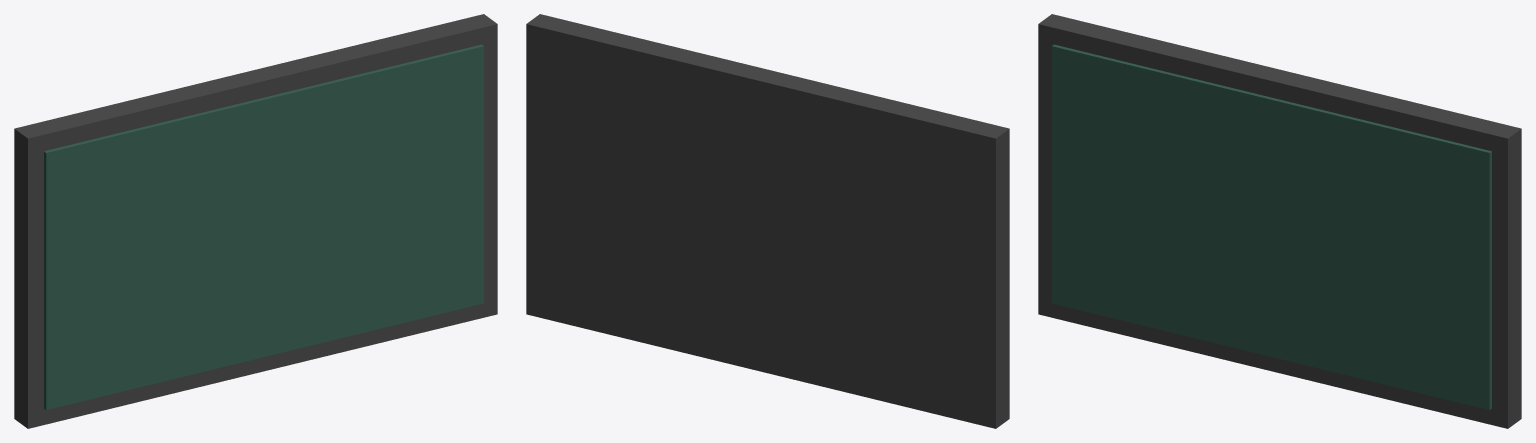
The model's file is display-10in.glb.
3 views of the same model, side by side, from view 1: azimuth 30°, elevation 25°; view 2: azimuth 150°, elevation 25°; view 3: azimuth 330°, elevation 25° (orthographic).
Parts seen in each view (by area): view 1: geometry_1, geometry_0; view 2: geometry_0; view 3: geometry_1, geometry_0.
Boxes of the visible parts, x1,y1,x2,y2 form: geometry_1: (44, 44, 483, 409); geometry_0: (14, 14, 497, 428); geometry_0: (526, 14, 1009, 428); geometry_1: (1052, 44, 1491, 409); geometry_0: (1038, 14, 1521, 428).
Size of the model in its own units: 0.237 by 0.14 by 0.014.
